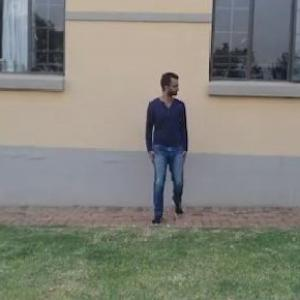follow: (146, 71, 190, 222)
